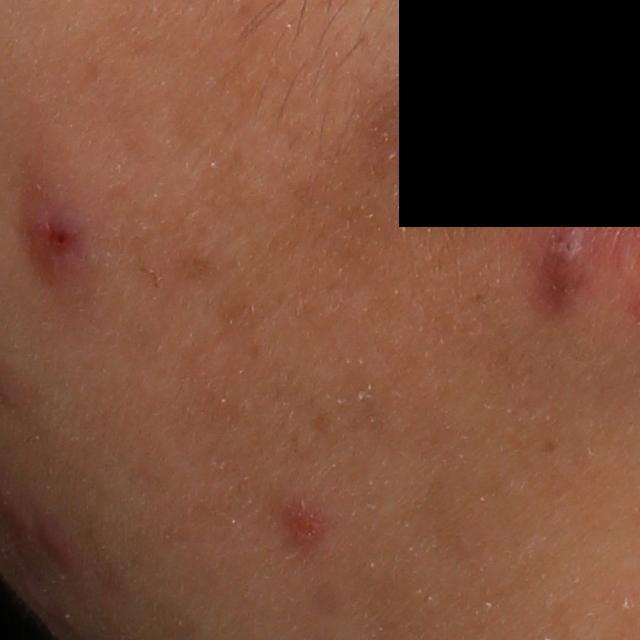papule: (27, 203, 93, 271), (534, 233, 589, 303), (278, 498, 330, 550), (42, 518, 76, 577)
